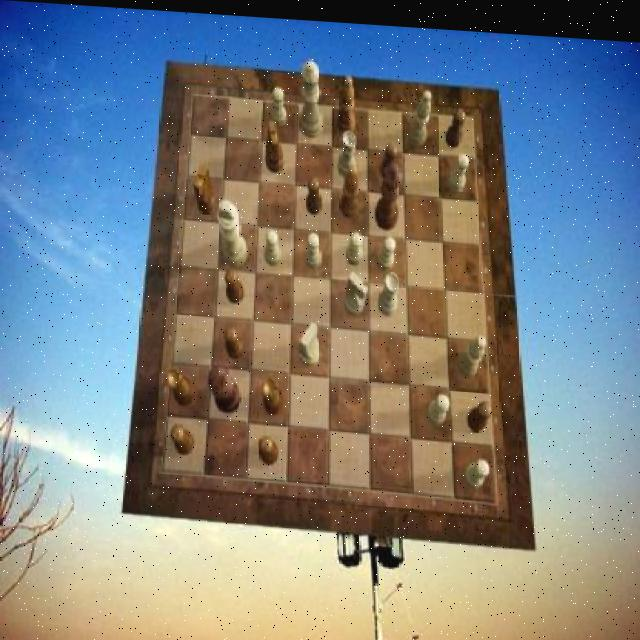bishop: (339, 159, 358, 214), (338, 71, 355, 131)
black-bishop: (208, 363, 242, 412)
black-king: (192, 161, 215, 211), (265, 117, 283, 170)
black-knight: (466, 394, 491, 427), (444, 103, 464, 143), (170, 423, 194, 453), (223, 322, 243, 357), (226, 264, 244, 300), (380, 139, 397, 177), (306, 171, 322, 210), (258, 434, 278, 462)
black-pawn: (374, 157, 401, 227)
black-queen: (166, 364, 194, 404), (262, 372, 285, 411)
black-rook: (407, 83, 431, 142), (457, 329, 486, 373)
white-bishop: (218, 198, 248, 267)
white-king: (344, 266, 368, 313), (298, 317, 320, 362)
white-knight: (463, 452, 489, 484), (448, 147, 469, 186), (426, 387, 450, 421), (376, 230, 396, 266), (303, 228, 320, 267), (272, 83, 288, 124), (263, 226, 280, 263), (346, 229, 363, 262)
white-pawn: (299, 55, 323, 135)
white-queen: (336, 127, 356, 175), (378, 267, 398, 312)
